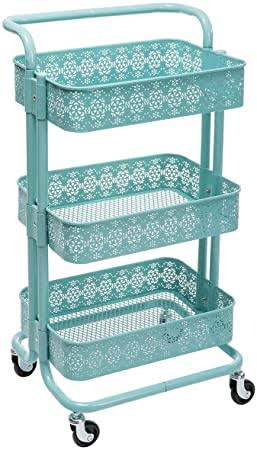Carts: (1, 1, 256, 450)
